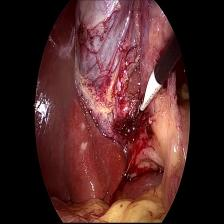Hook: (137, 68, 162, 116)
